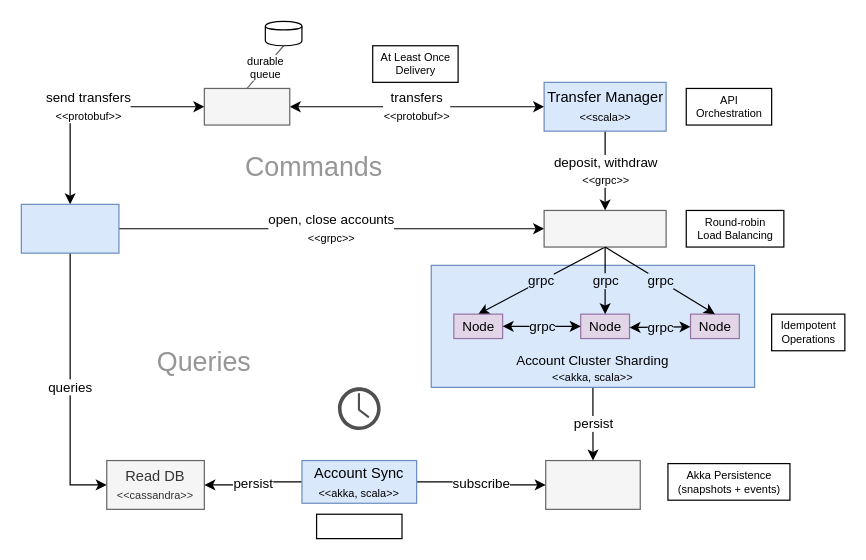
This 866x560 diagram has some shape labels left out. Each missing label, with the centre of its shape:
"Akka Streams" goes at point 358,526.
"Cluster Ingress <<nginx>>" goes at point 604,228.
"eventual consistency" goes at point 358,408.
"Queue <<rabbitmq>>" goes at point 246,106.
"REST API <<nodejs>>" goes at point 69,228.
"Write DB <<eventstore>>" goes at point 592,484.
